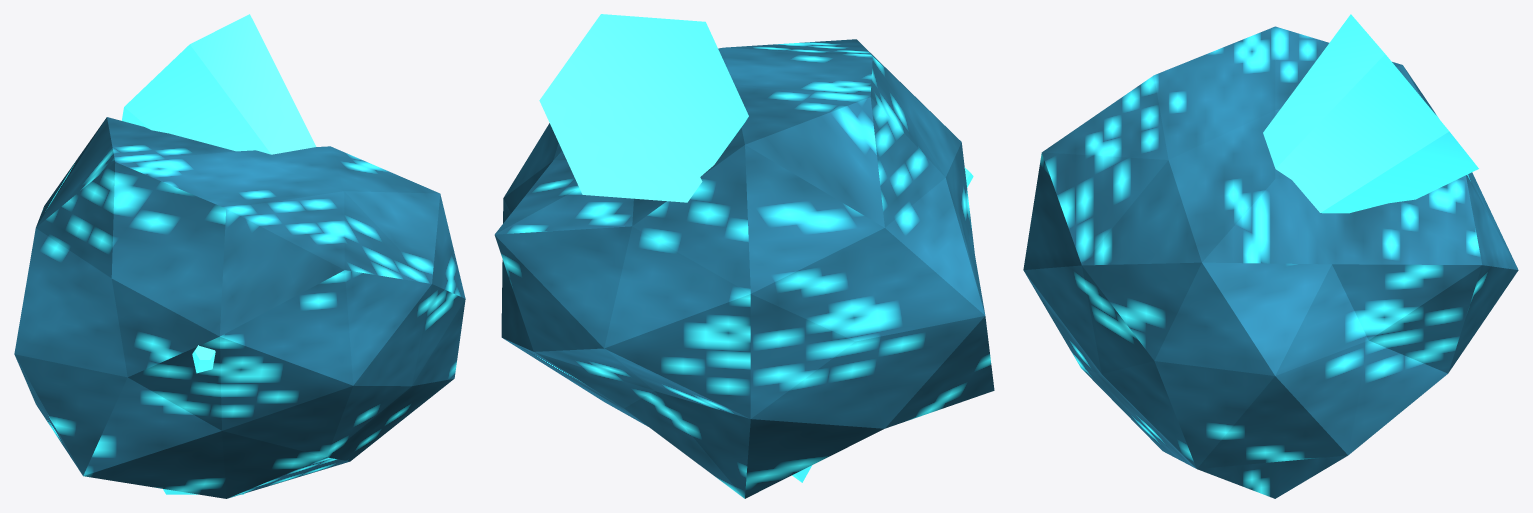
The model's file is chunk_crystal.glb.
3 renders of one model, left to right at view 1: azimuth 30°, elevation 25°; view 2: azimuth 150°, elevation 25°; view 3: azimuth 270°, elevation 25°, orthographic. The views are drawn at different scales.
Parts seen in each view (by area): view 1: chunk_crystal; view 2: chunk_crystal; view 3: chunk_crystal.
Boxes of the visible parts, left/top/right/bottom form: chunk_crystal: left=14, top=14, right=465, bottom=498; chunk_crystal: left=494, top=14, right=994, bottom=498; chunk_crystal: left=1023, top=14, right=1518, bottom=498.
Size of the model in its own units: 0.9413 by 0.9051 by 0.8862.
Materials: 1 (1 with a texture image).
